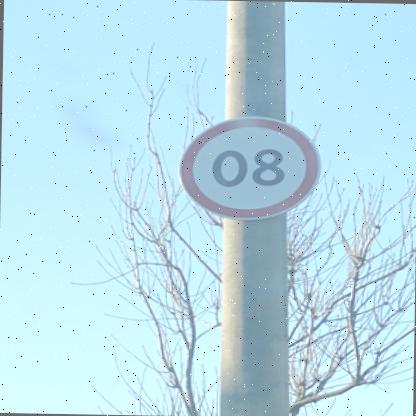speedlimit: (179, 113, 323, 218)
